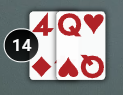4: (28, 11, 56, 38)
q: (55, 9, 85, 40)
